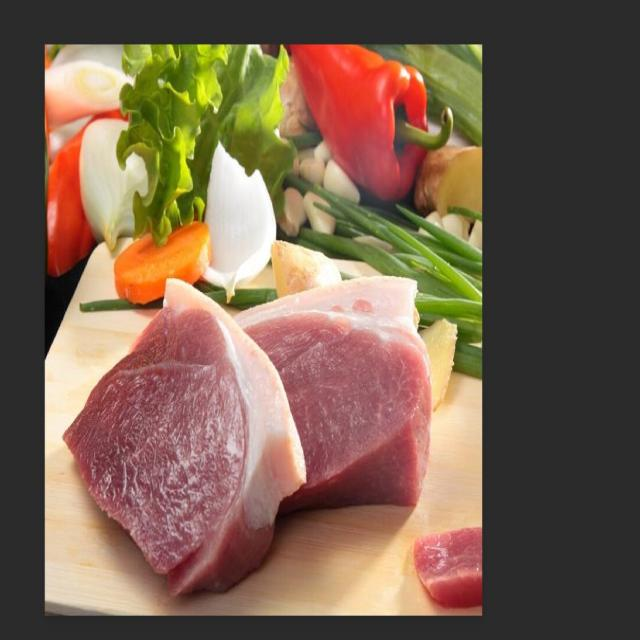--: (77, 278, 289, 592), (228, 272, 443, 508), (418, 526, 485, 606)
